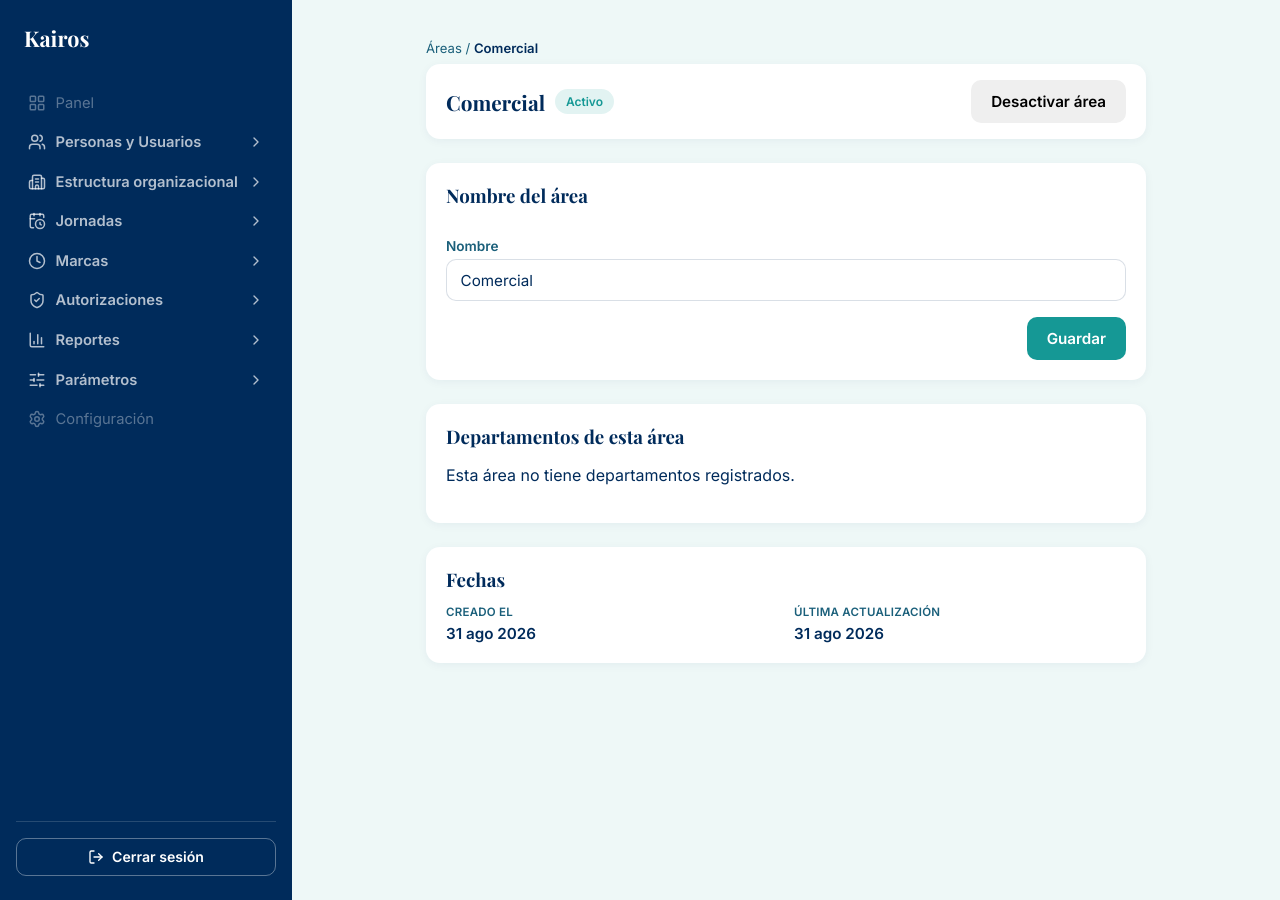
FichaAreaPage › renombra el área vía PATCH /api/areas/:id
This screenshot has width=1280, height=900.
Expected: the text "Comercial" next to "Áreas" is shown, [474,40,538,56]
Replace the text in the field labelled "Nombre" with "Comercial y Marketing": (786,280) [446,259,1126,301]
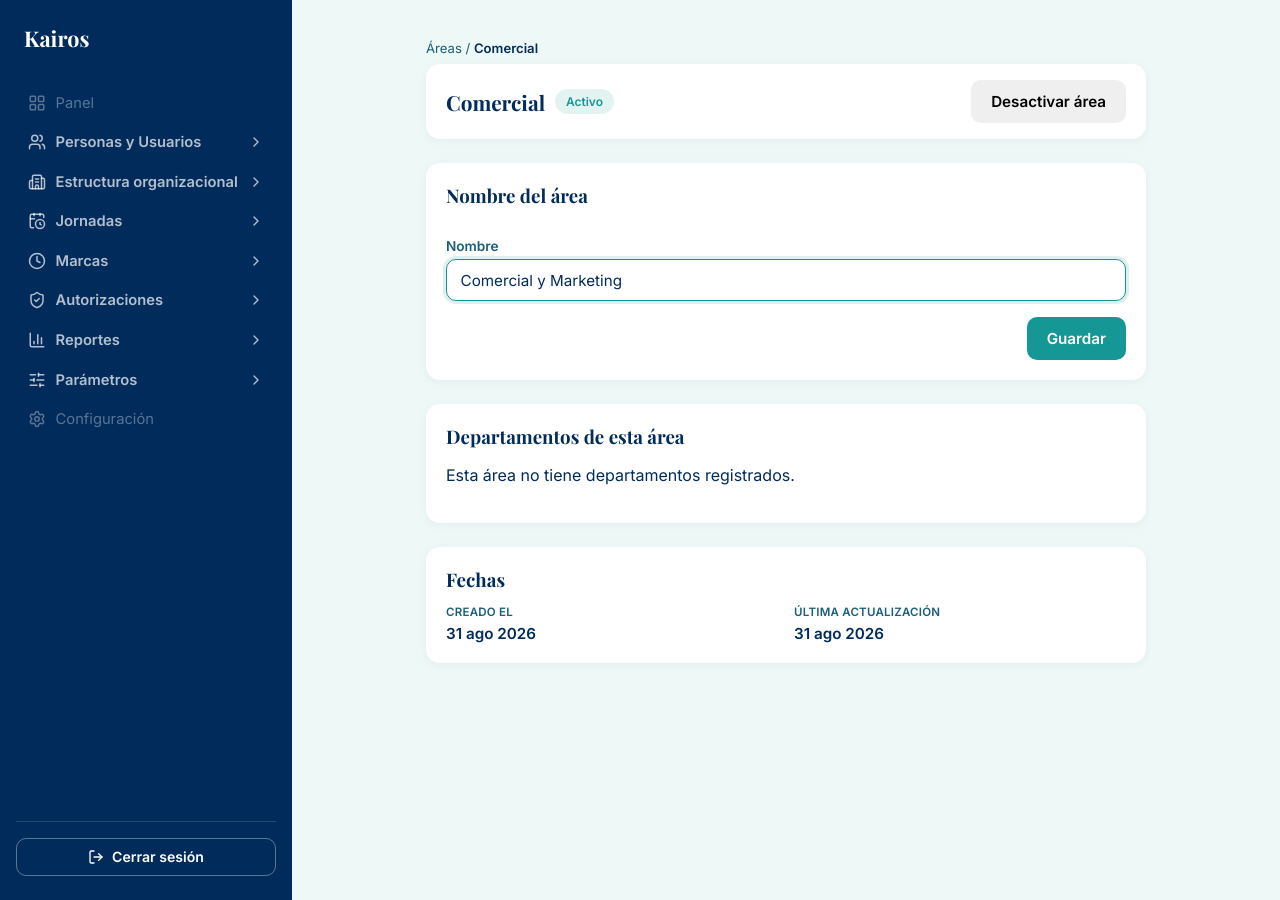
Click the button "Guardar": (1076,338) [1027,317,1126,360]
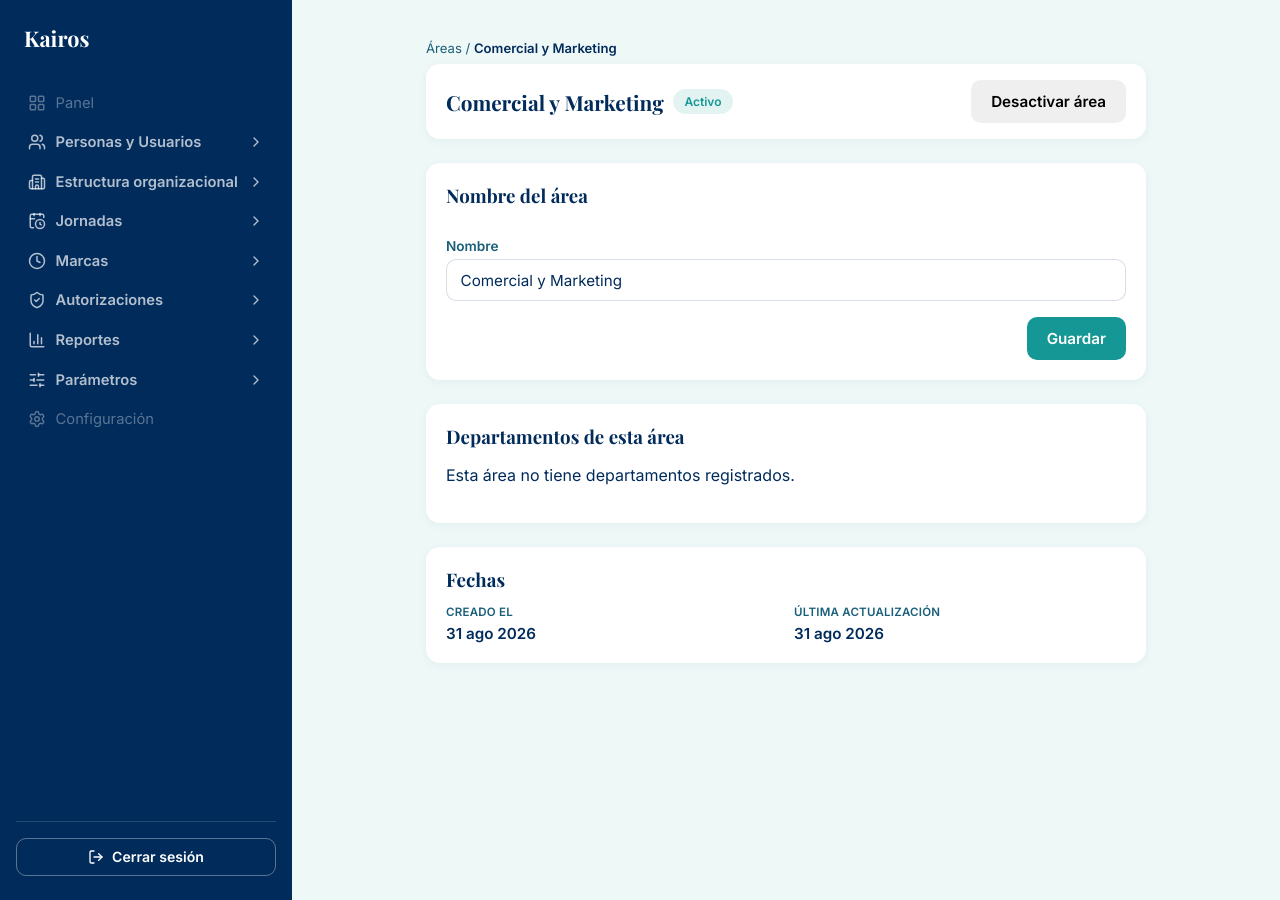
Expected: the text "Comercial y Marketing" next to "Áreas" is shown, [474,40,617,56]
